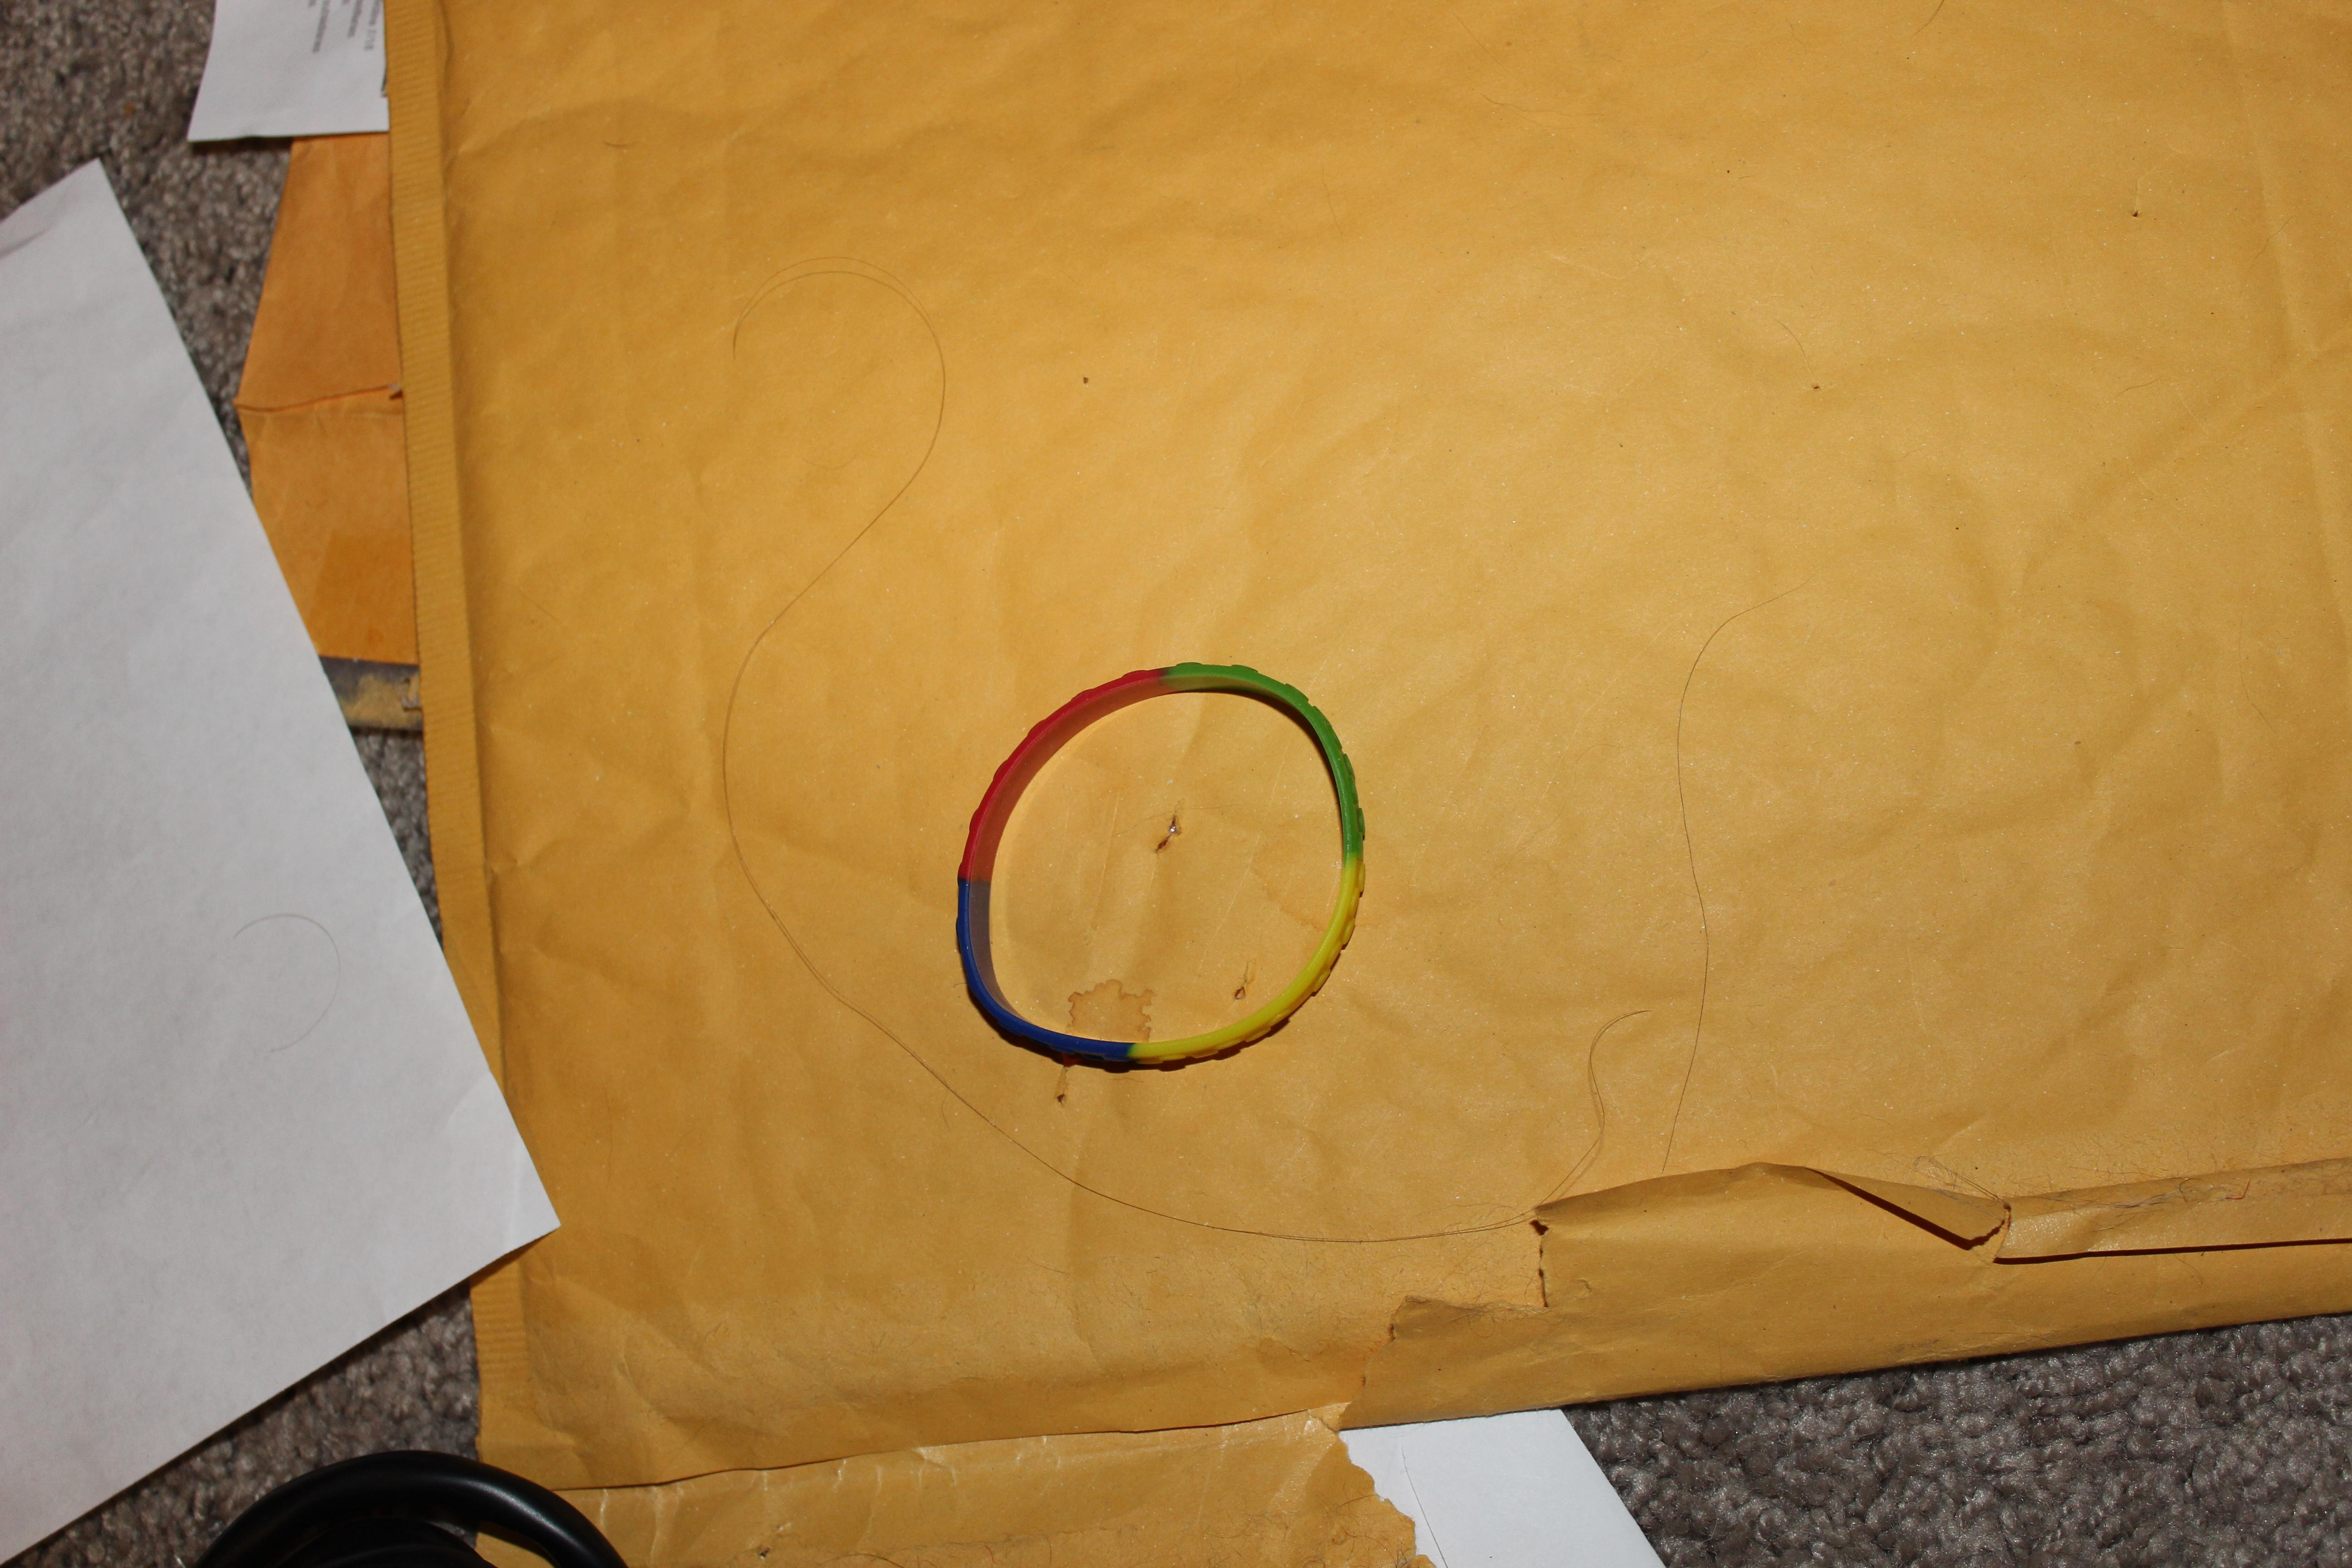legoBracelet: (922, 635, 1414, 1102)
